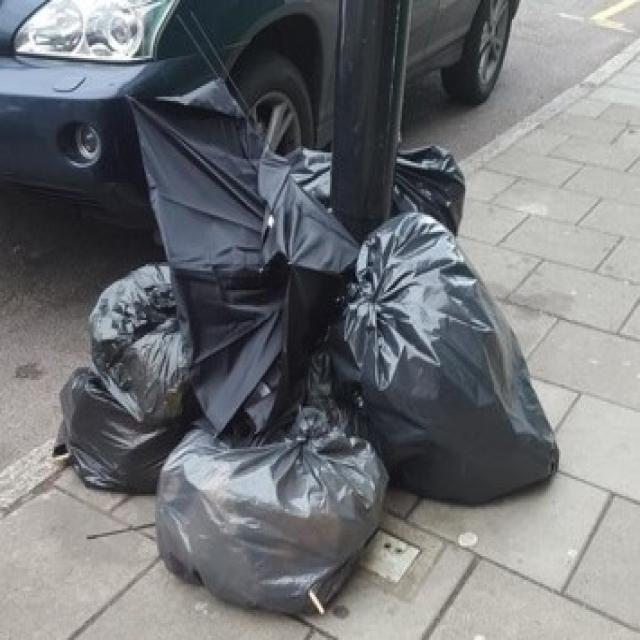high trash: (61, 80, 559, 612)
